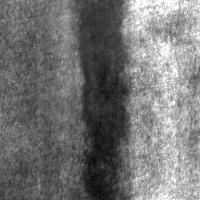patches: (76, 1, 132, 199), (56, 0, 154, 77), (27, 65, 105, 143), (39, 0, 119, 51)
